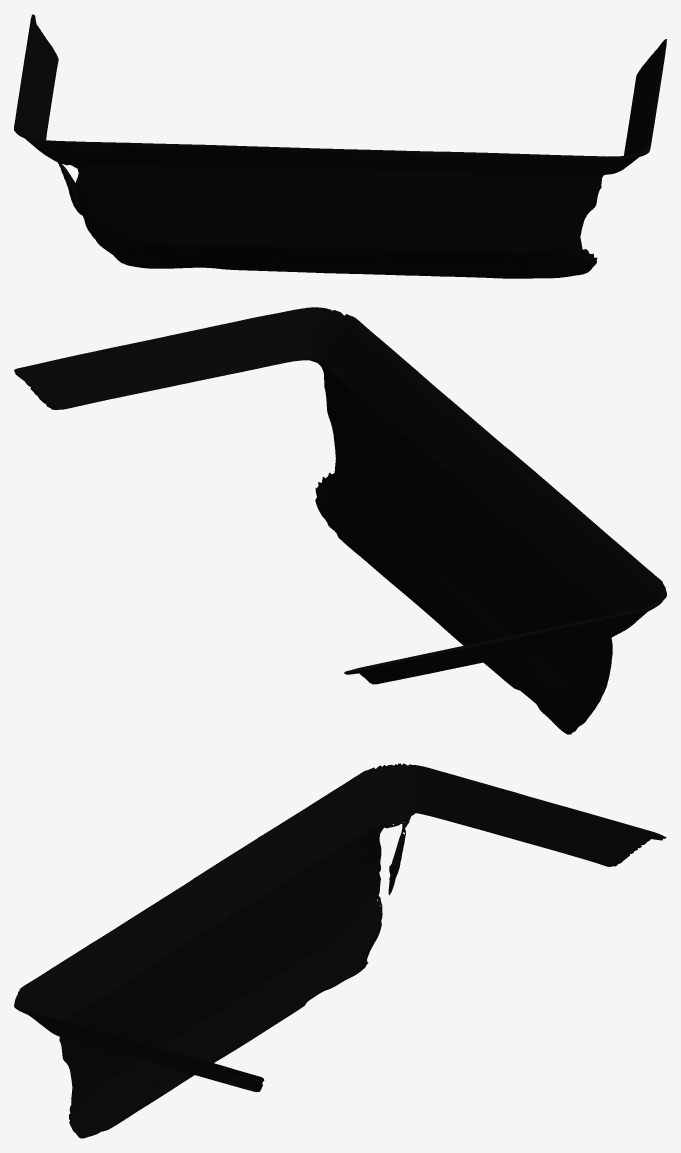
The model's file is bathroom-01-sink.glb.
The picture shows the model from 3 angles, top to bottom: view 1: azimuth 30°, elevation 25°; view 2: azimuth 150°, elevation 25°; view 3: azimuth 270°, elevation 25°; orthographic projection. The views are drawn at different scales.
Parts seen in each view (by area): view 1: geometry_0; view 2: geometry_0; view 3: geometry_0.
Boxes of the visible parts, <box> form: geometry_0: <box>14,14,666,278</box>; geometry_0: <box>14,307,666,734</box>; geometry_0: <box>14,763,666,1138</box>.
Size of the model in its own units: 0.8774 by 0.207 by 0.7728.
Materials: 1 (1 with a texture image).
